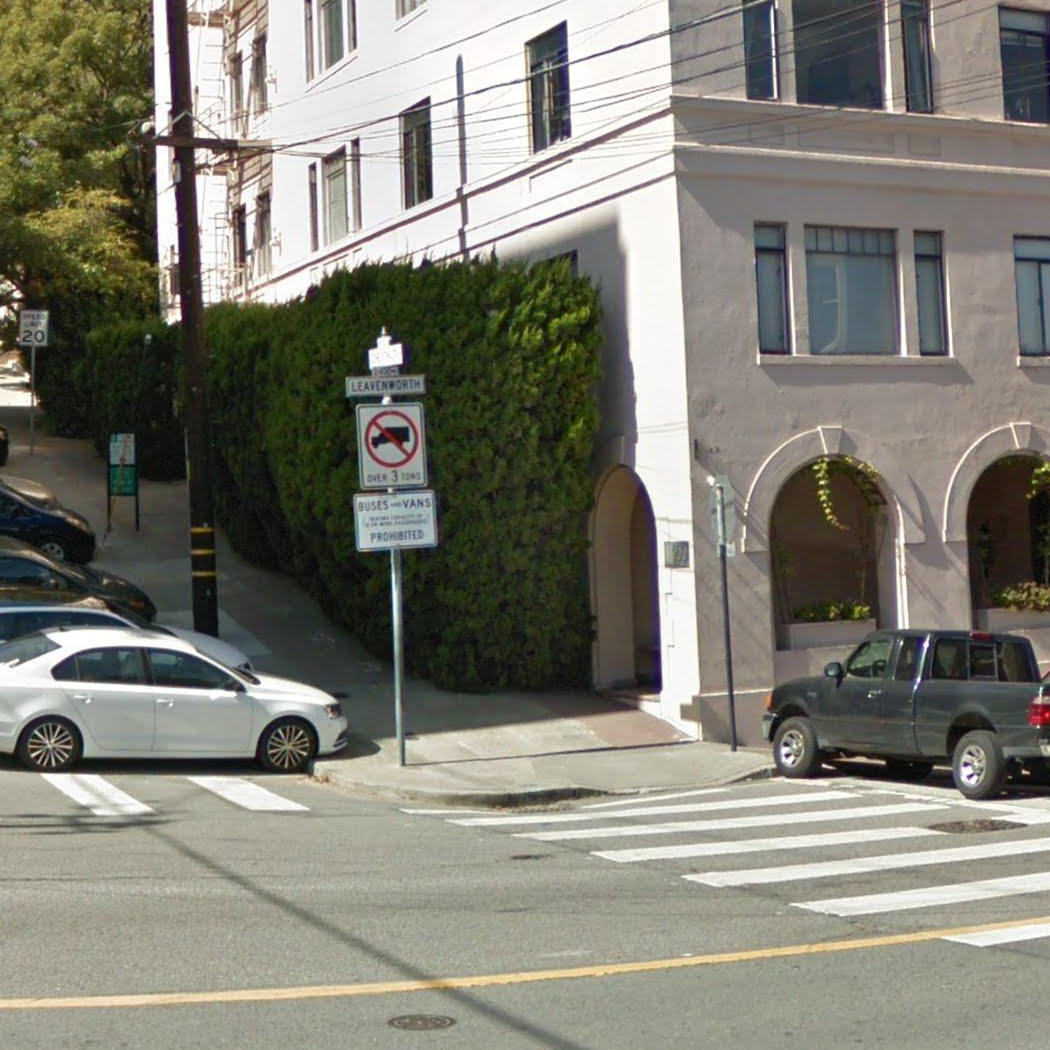2 Hour Parking: (107, 431, 137, 467)
